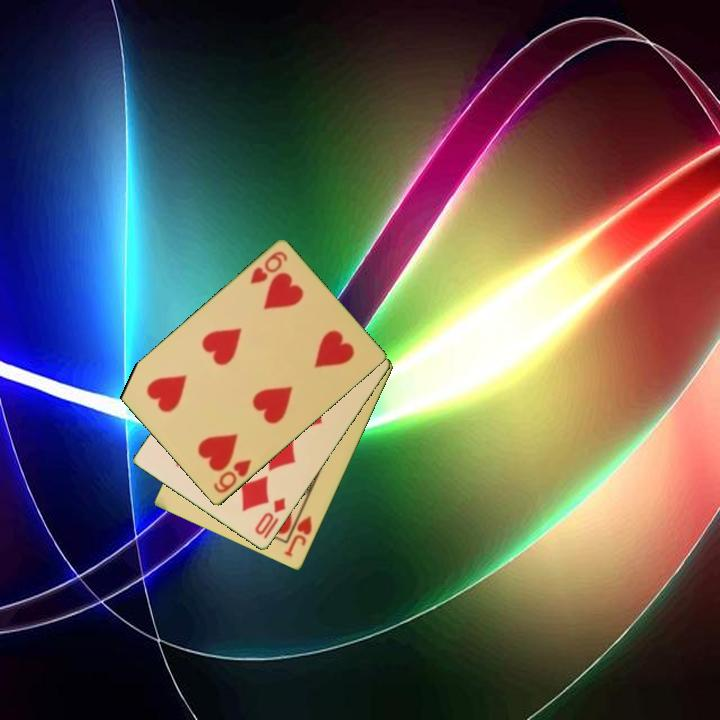10d: (251, 494, 289, 542)
6h: (210, 456, 255, 497), (246, 248, 291, 288)
Jh: (281, 505, 315, 560)
